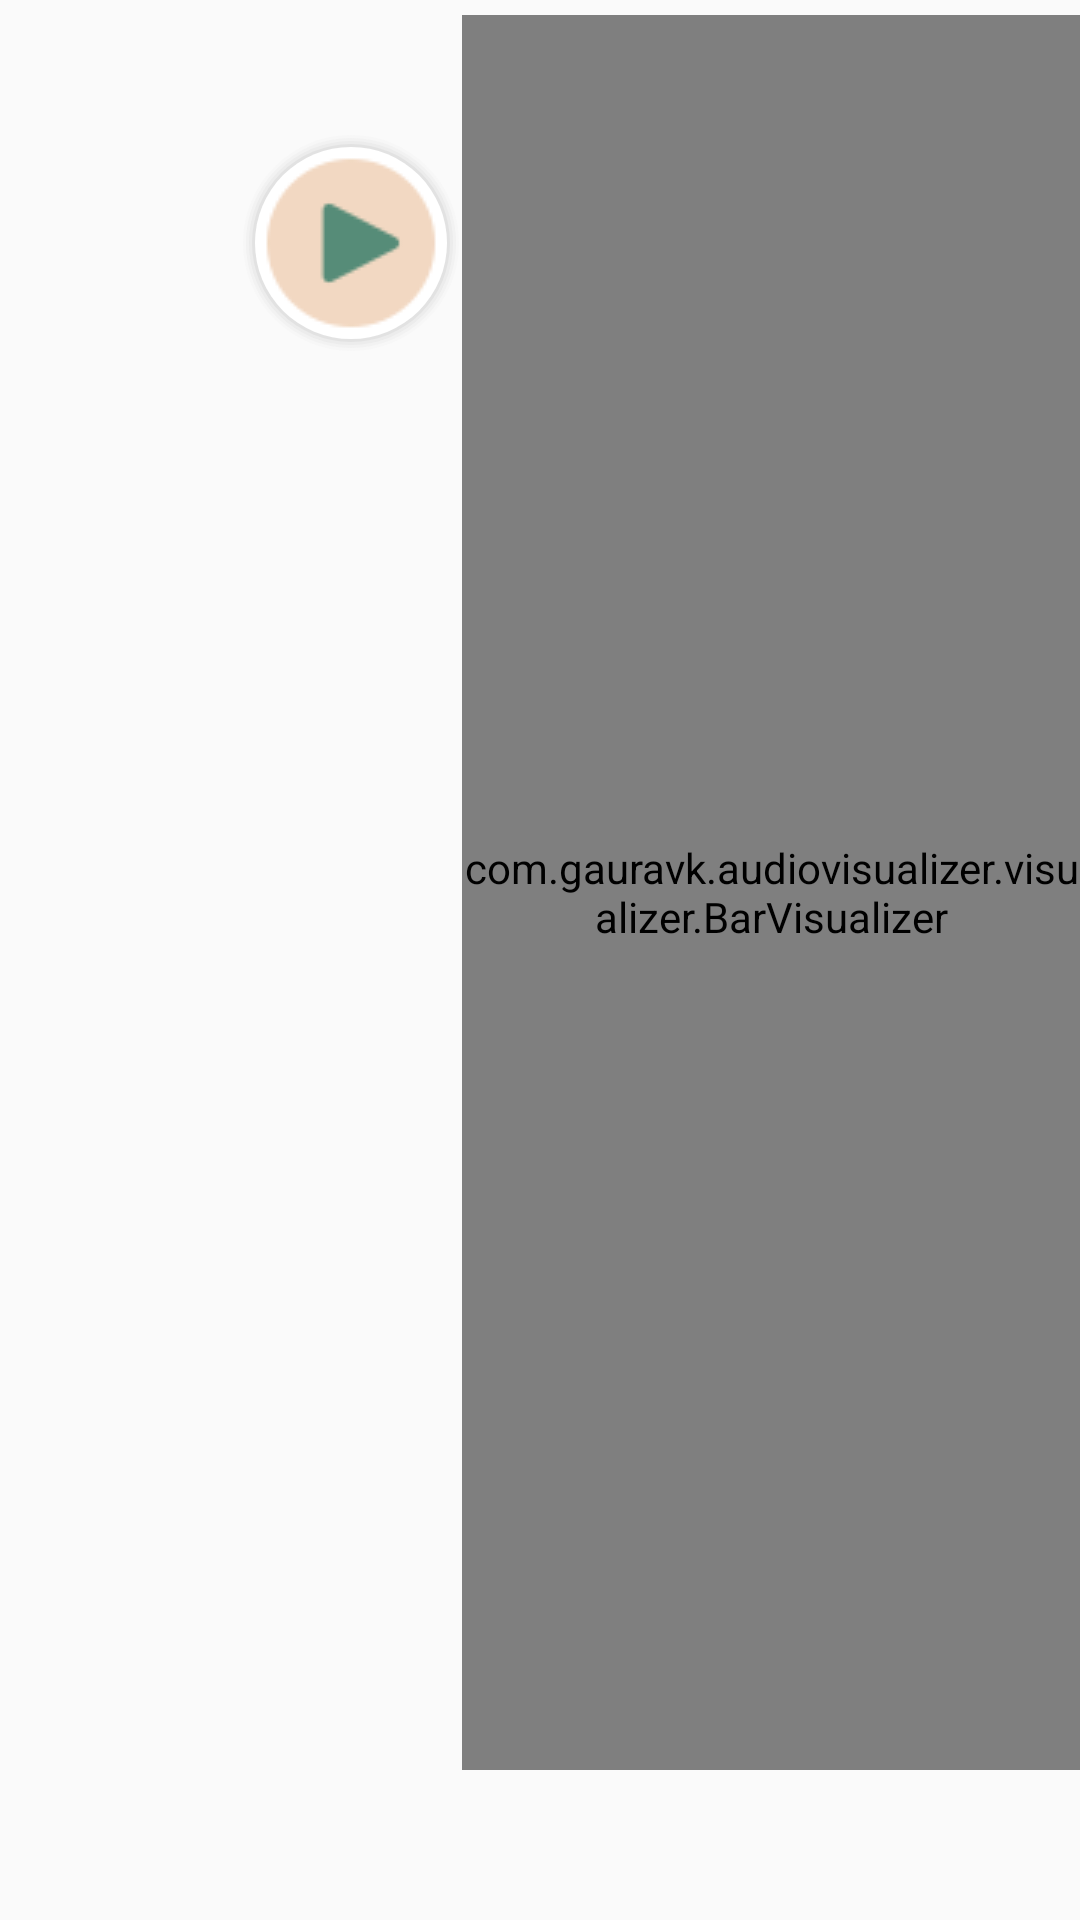

Icon bounding boxes for this 1080px×1920px phone screenshot, format (x1, y1, x2, y2):
play: (267, 159, 435, 327)
